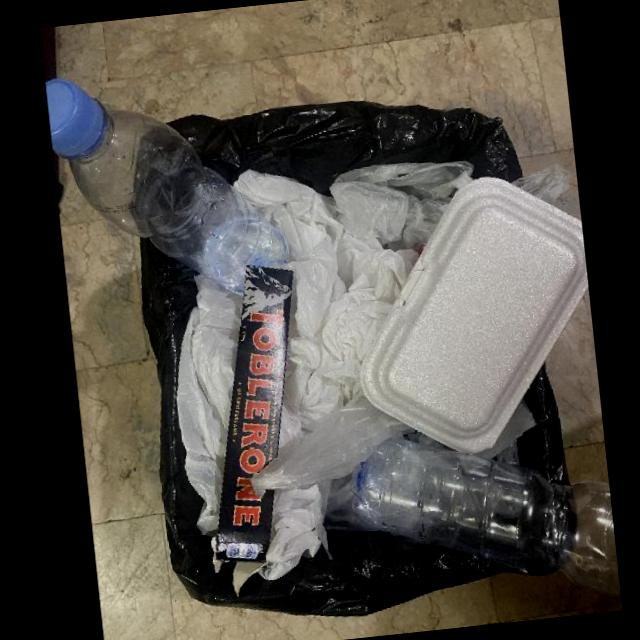carton: (210, 264, 293, 573)
chai_nhua_pet: (45, 77, 289, 296), (350, 437, 621, 595)
tui_ni_long: (233, 164, 471, 581), (233, 160, 474, 456), (176, 285, 241, 536)
xop: (360, 177, 588, 452)
